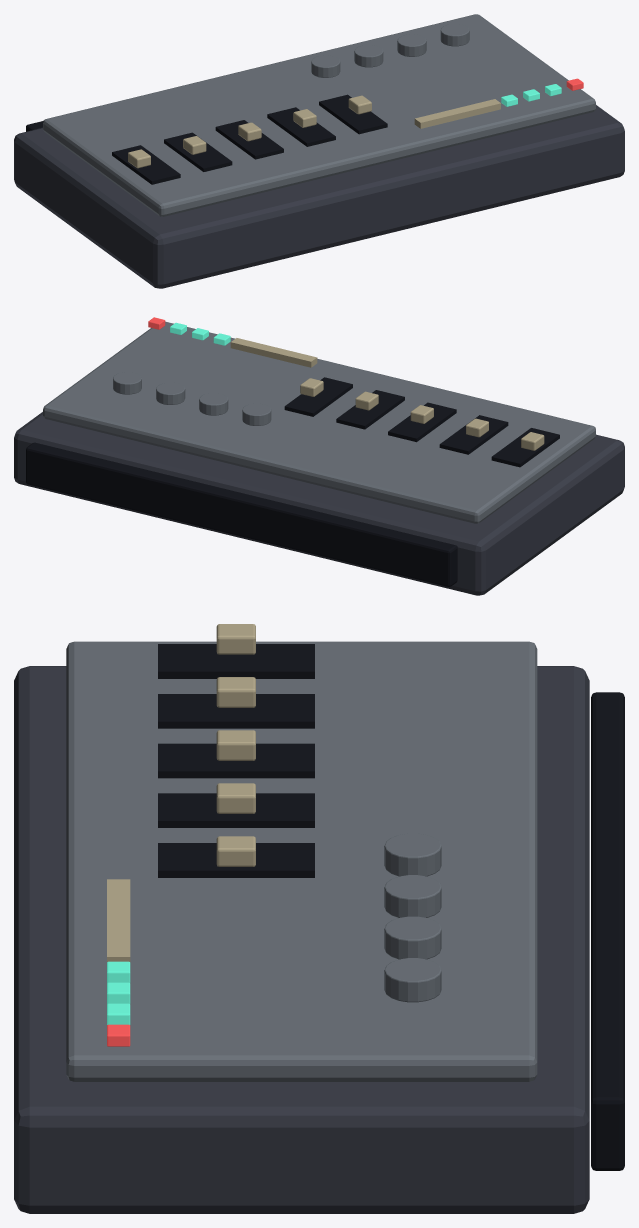
Rendered from studio_audio_interface.glb.
3 views of the same model, one above another, from view 1: azimuth 30°, elevation 25°; view 2: azimuth 150°, elevation 25°; view 3: azimuth 270°, elevation 25° (orthographic). The views are drawn at different scales.
Parts seen in each view (by area): view 1: studio_audio_interface; view 2: studio_audio_interface; view 3: studio_audio_interface.
Part boxes in pixels (left/top/right/bottom): studio_audio_interface: left=14, top=14, right=624, bottom=288; studio_audio_interface: left=14, top=317, right=624, bottom=595; studio_audio_interface: left=14, top=624, right=624, bottom=1213.
Size of the model in its own units: 0.82 by 0.153 by 0.467.
